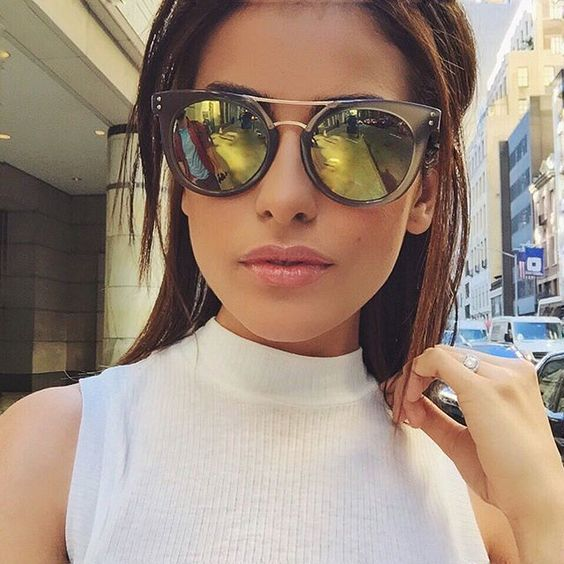sunglasses: (157, 91, 428, 211)
